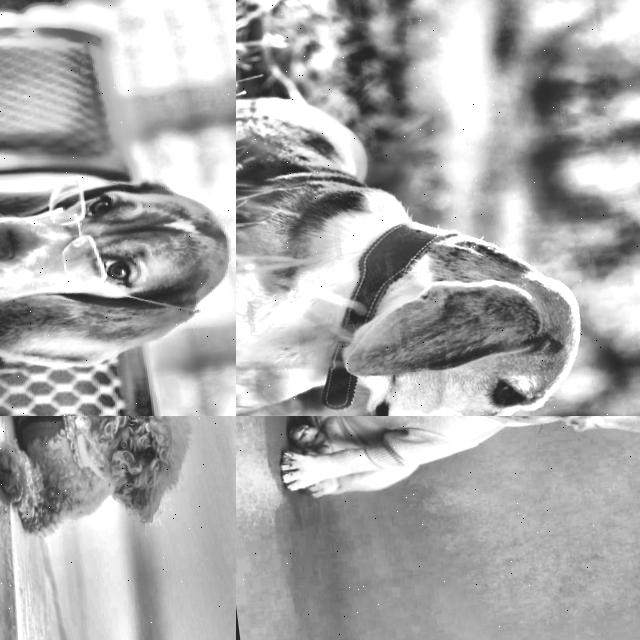beagle: (296, 193, 628, 416), (0, 142, 236, 400)
bulldog: (428, 416, 640, 471)
poodle: (38, 416, 229, 557)
